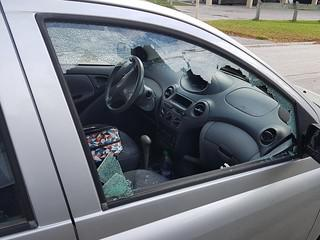doorouter-dent: (34, 11, 303, 223)
